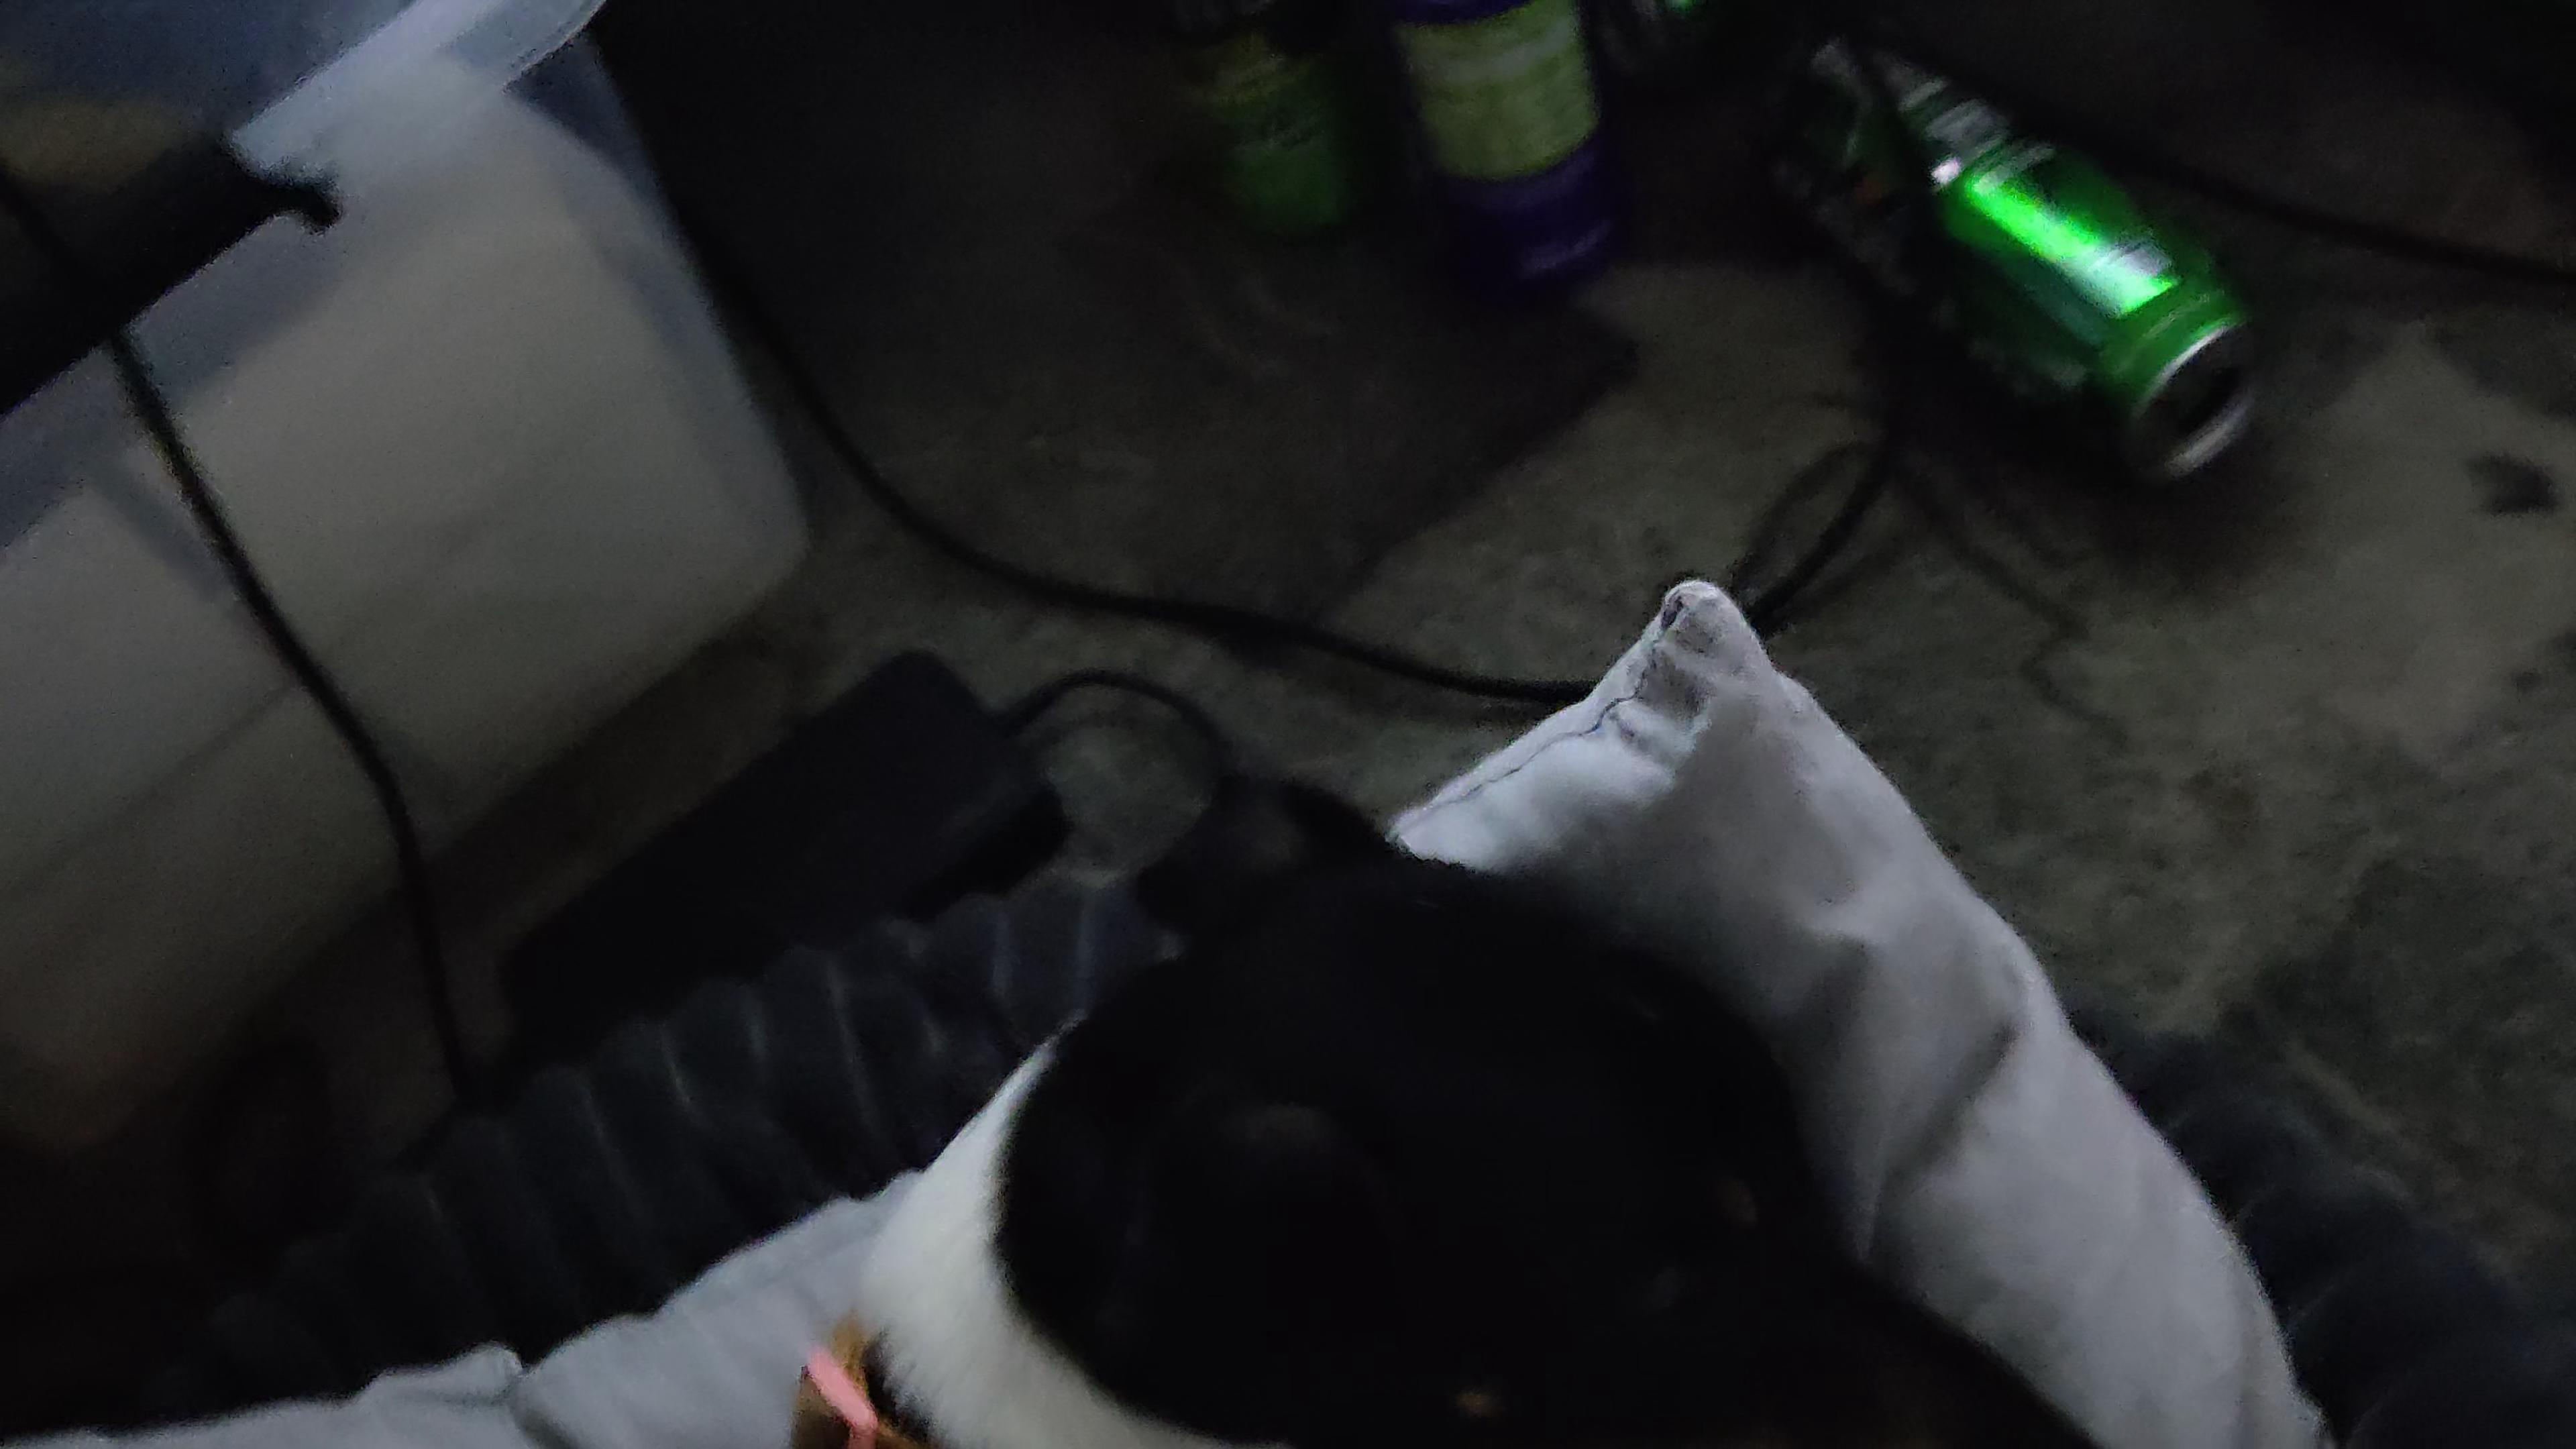Dog: (755, 759, 2132, 1449)
